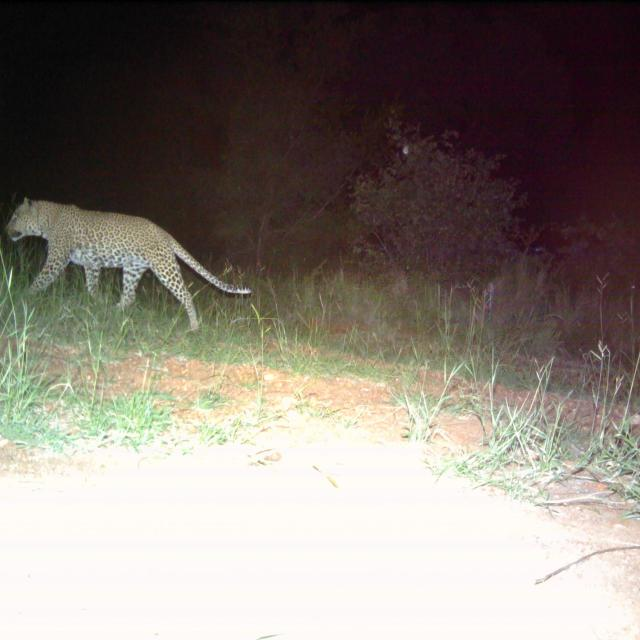Leopard: (12, 197, 242, 325)
